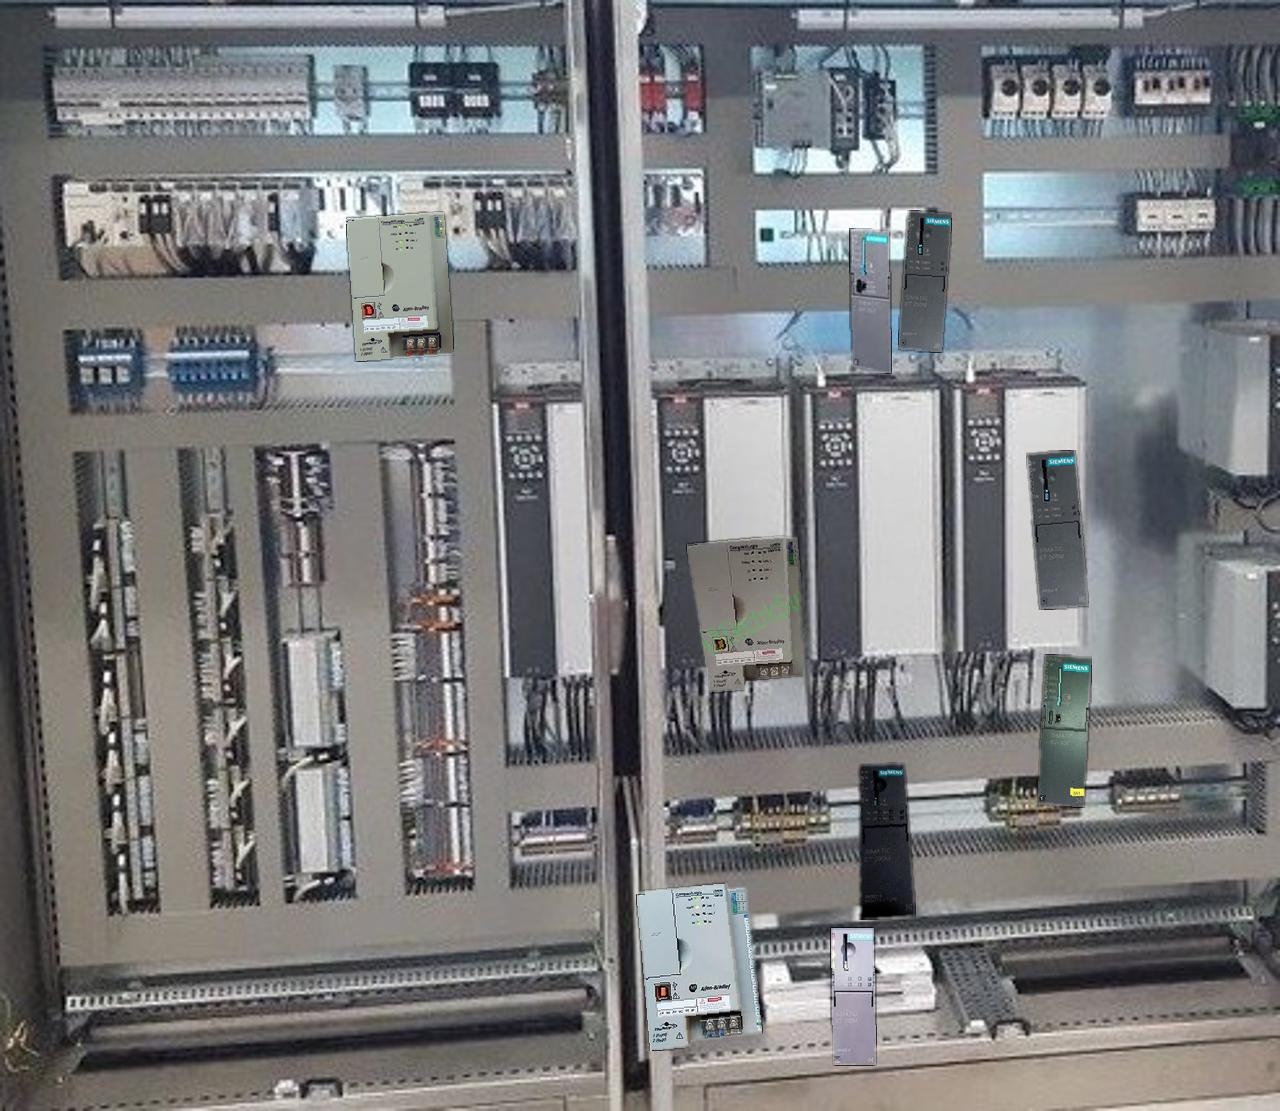AllenBradley: (636, 882, 761, 1050), (687, 536, 803, 692), (346, 213, 453, 360)
Siemens: (1038, 655, 1091, 806), (850, 229, 890, 372)
